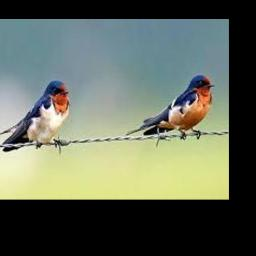Swallow: (126, 74, 217, 138), (0, 80, 71, 152)
